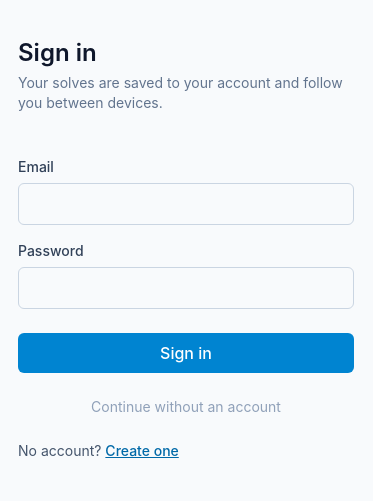
Test case: LoginPage › announces a rejected sign-in to assistive technology
In the field labelled "Email": point(186, 204) [18,183,354,225], type "cuber@example.com"
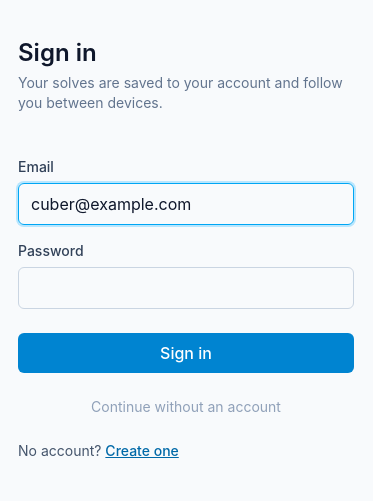
In the password field labelled "Password": point(186, 288) [18,267,354,309], type "wrong-password-x"
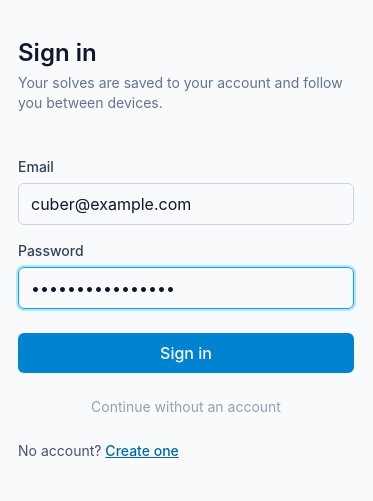
Click the button "Sign in": point(186, 353) [18,333,354,373]
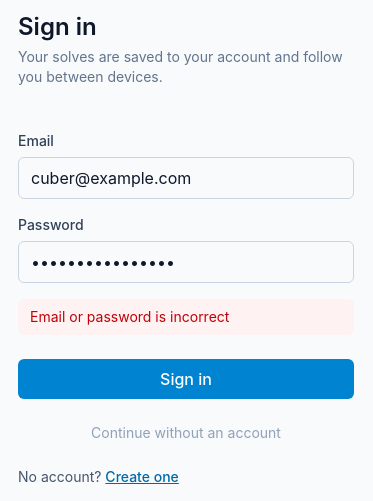
Expected: the message reads "Email or password is incorrect", [30,308,229,325]
